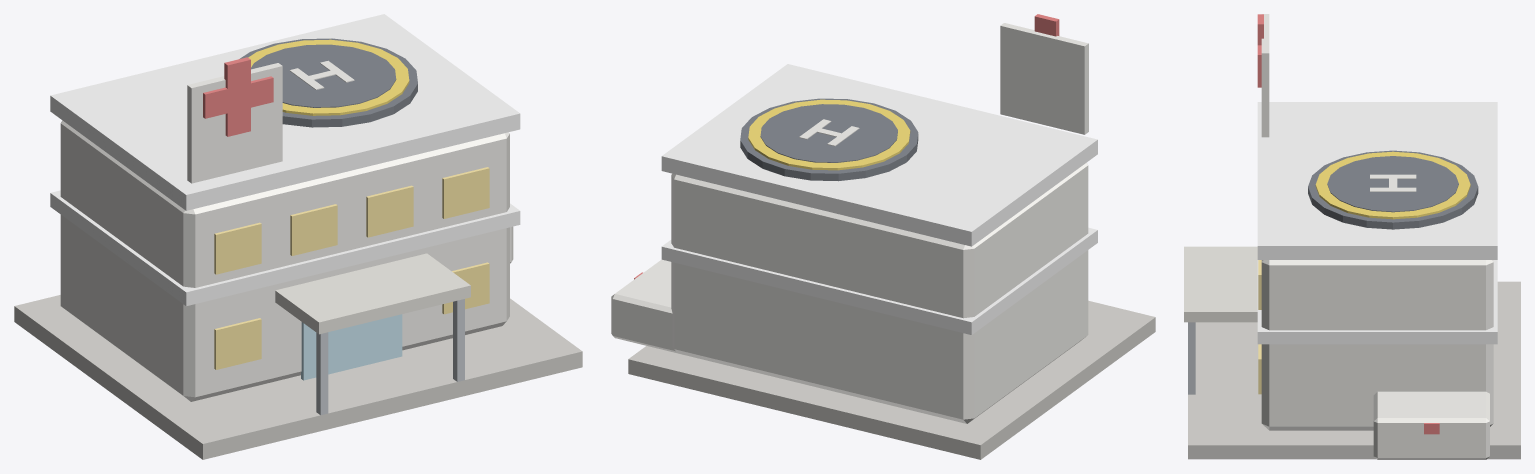
Rendered from hospital_3.glb.
The picture shows the model from 3 angles, left to right: view 1: azimuth 30°, elevation 25°; view 2: azimuth 150°, elevation 25°; view 3: azimuth 270°, elevation 25°; orthographic projection. The views are drawn at different scales.
Visible parts, largest first — view 1: main; view 2: main; view 3: main.
Boxes of the visible parts, x1,y1,x2,y2 form: main: (14, 14, 582, 459); main: (611, 14, 1155, 459); main: (1184, 14, 1520, 459).
Size of the model in its own units: 1.11 by 0.8806 by 0.87.
